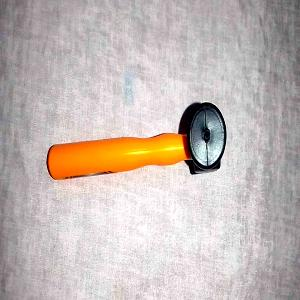martelo: (46, 101, 228, 182)
